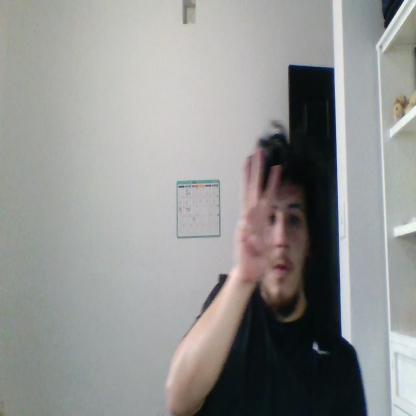W: (236, 149, 281, 282)
